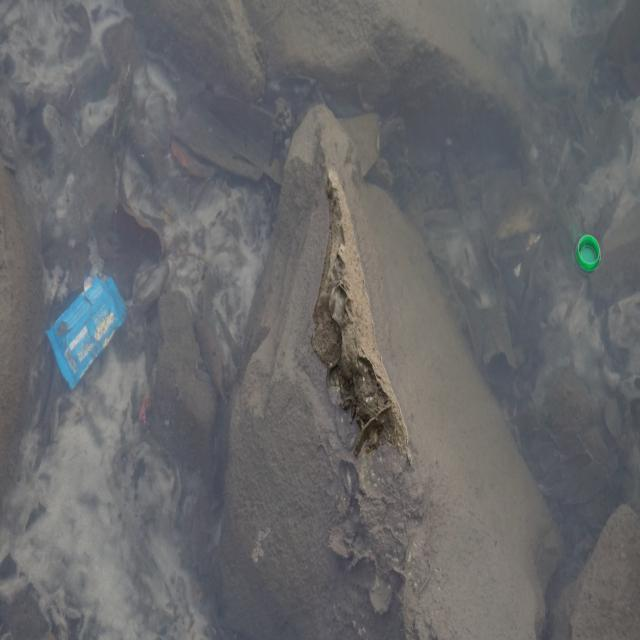Botol Plastik: (577, 228, 605, 277)
Bungkus Makanan: (50, 261, 129, 399)
